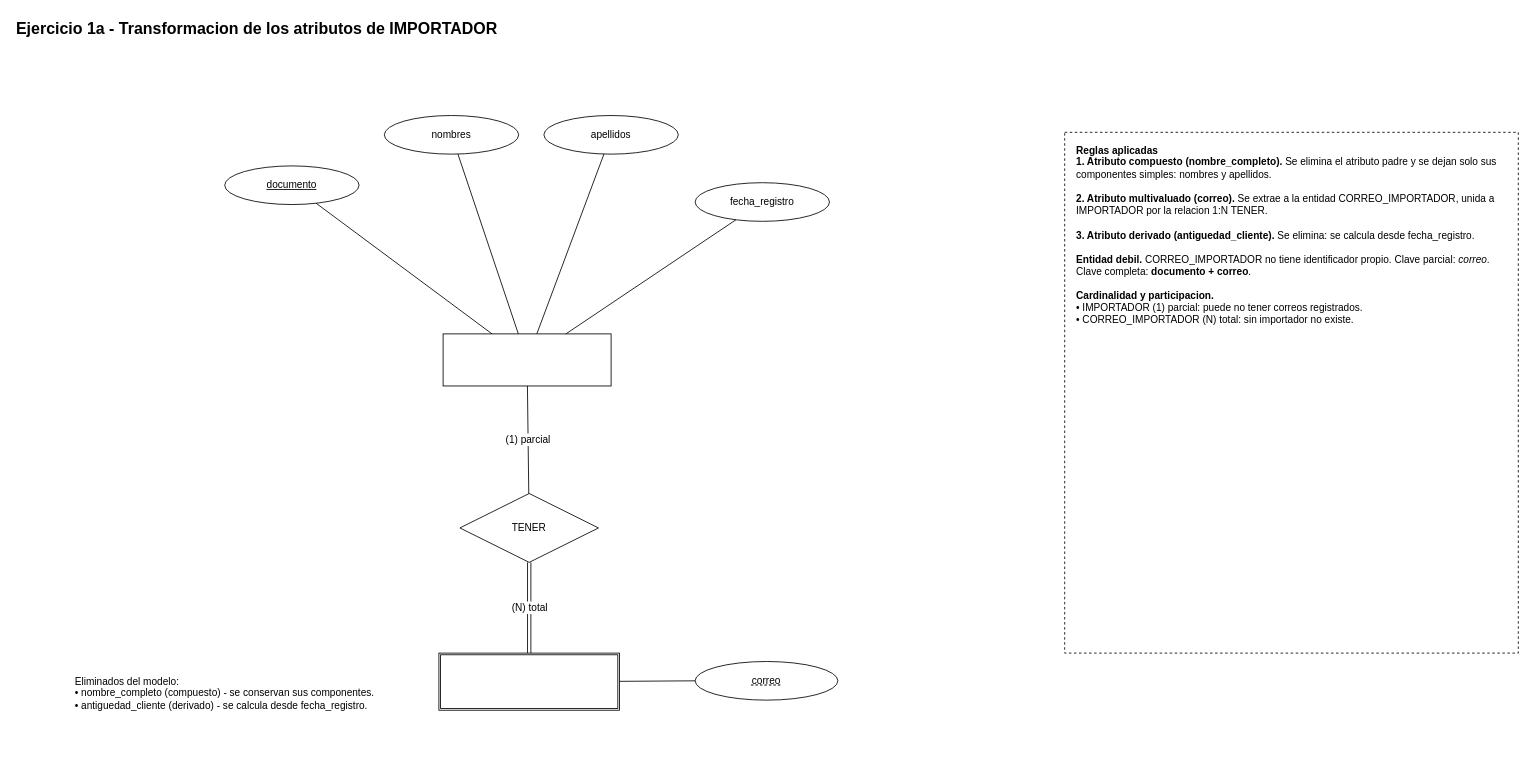
Some shapes in this 1533 by 759 pixel diagram are drawn without their labels. Here are the shapes that lost their labels. From the top down, the centre of each, then its label:
At pixel 526 359: "IMPORTADOR".
At pixel 529 681: "CORREO_IMPORTADOR".
